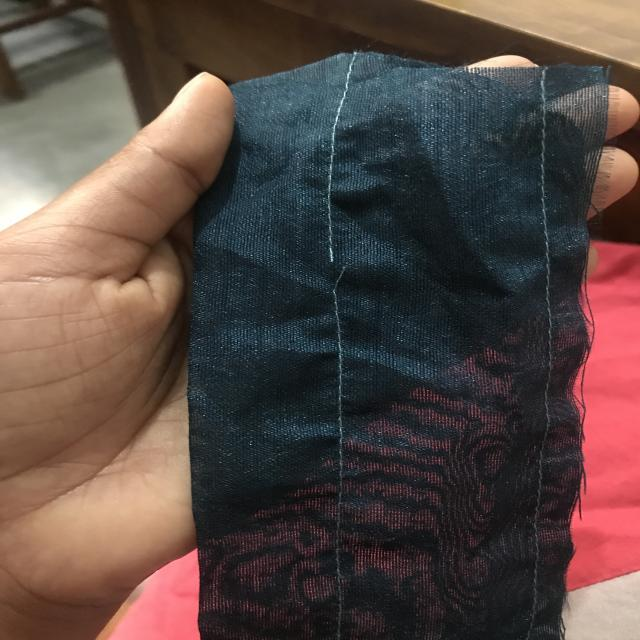broken: (316, 240, 370, 313)
